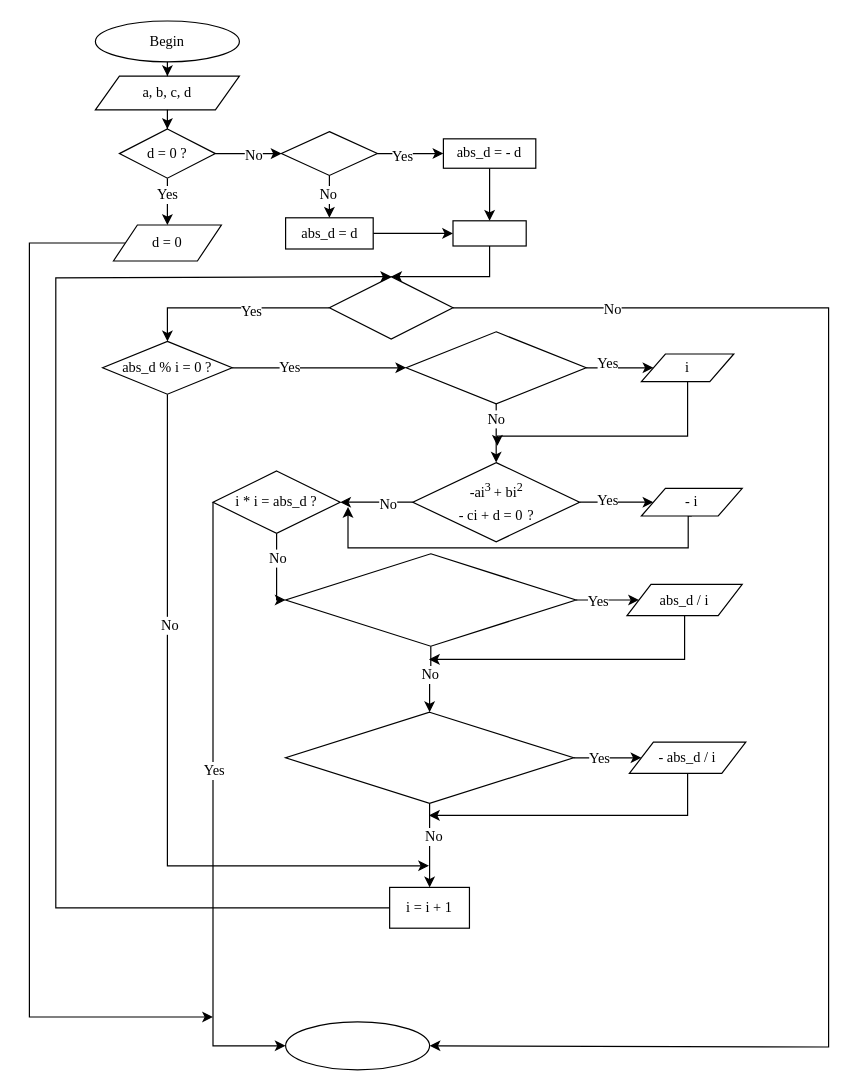
Image size: 859x1091. Some labels were removed from this diagram. Here are the shapes that lost their labels. From the top down, the centre of each, then its label:
At point (328, 152): "d < 0 ?".
At point (489, 233): "i = 1".
At point (390, 307): "i * i < = abs_d ?".
At point (495, 367): "ai 3 + bi 2 + ci + d = 0 ?".
At point (430, 599): "a(abs_d / i) 3 + b (abs_d / i) 2 + c (abs_d / i) + d = 0 ?".
At point (429, 757): "- a(abs_d / i) 3 + b (abs_d / i) 2 - c (abs_d / i) + d = 0 ?".
At point (357, 1045): "End".
